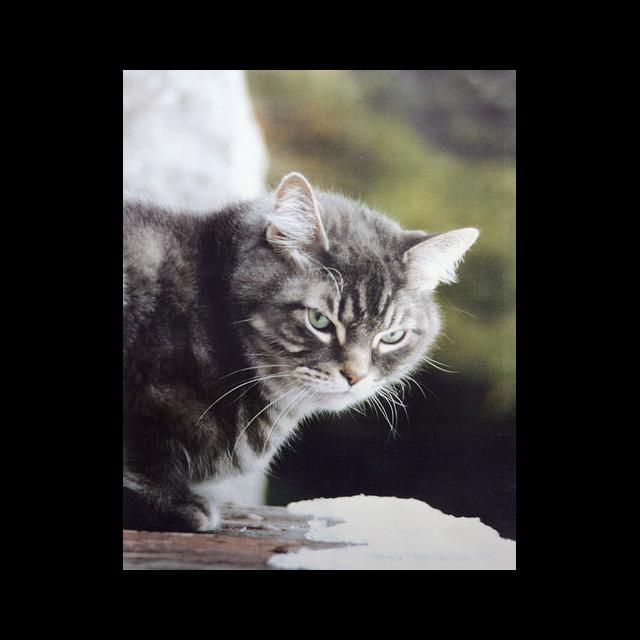animals: (266, 174, 476, 383)
